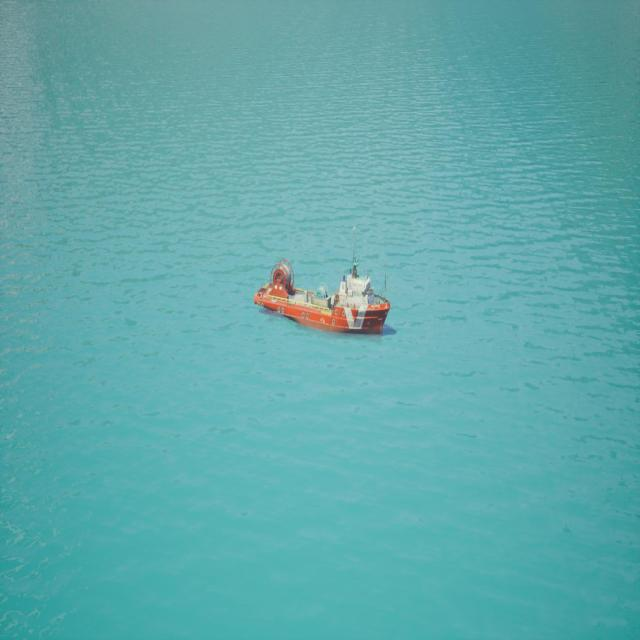tug boat: (254, 230, 395, 341)
